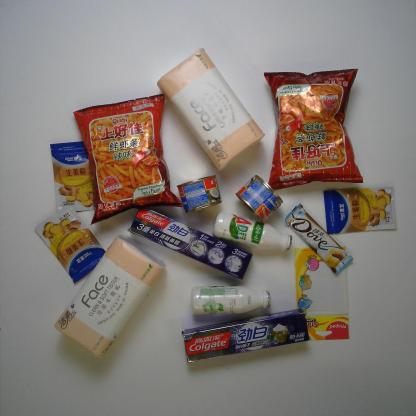Canned Food: (235, 174, 284, 222), (176, 174, 223, 213)
Chocolate: (283, 202, 354, 275)
Milk: (212, 212, 293, 252), (189, 285, 274, 317)
Personal Hygiene: (126, 206, 254, 282), (180, 307, 310, 363)
Puffed Food: (71, 93, 183, 226), (262, 68, 364, 190)
Seasoner: (34, 203, 107, 285), (322, 186, 398, 235), (48, 140, 94, 214)
Stationery: (286, 236, 352, 342)
Tissue: (52, 231, 168, 358), (155, 46, 266, 171)
